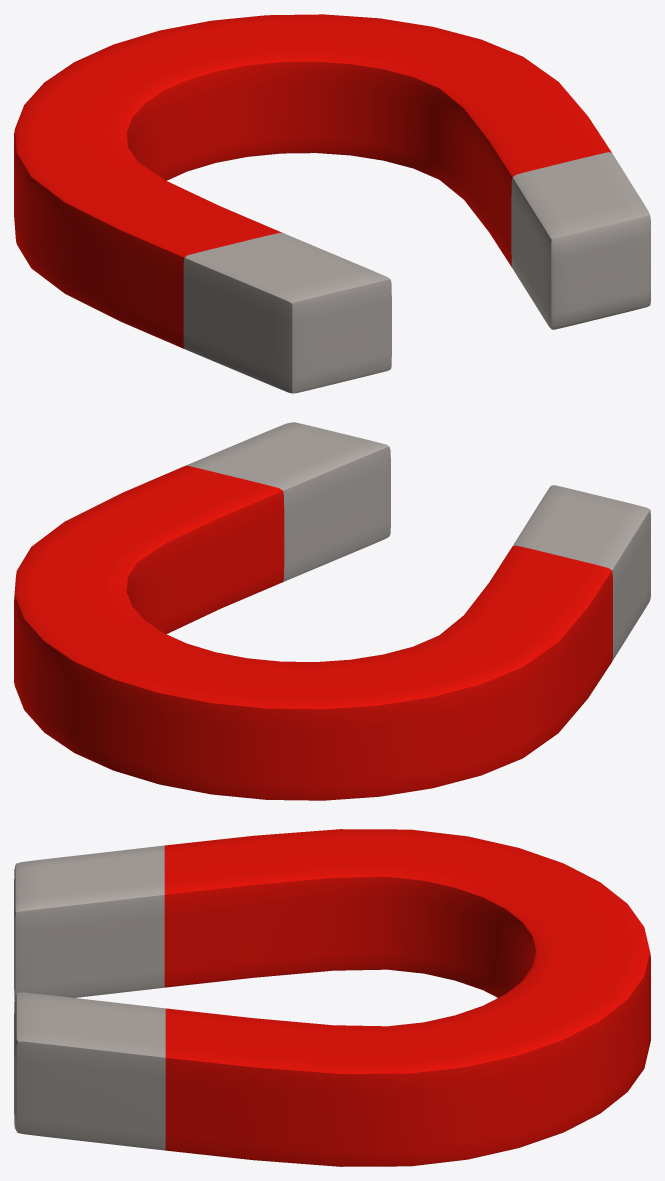
Rendered from GMP_magnet_01.fbx.
3 views of the same model, one above another, from view 1: azimuth 30°, elevation 25°; view 2: azimuth 150°, elevation 25°; view 3: azimuth 270°, elevation 25° (orthographic).
Visible parts, largest first — view 1: Magnet_01; view 2: Magnet_01; view 3: Magnet_01.
Part boxes in pixels (box(x1,y1,x2,y2)): Magnet_01: box(14, 14, 650, 393); Magnet_01: box(14, 422, 650, 800); Magnet_01: box(14, 829, 650, 1166).
Size of the model in its own units: 239 by 43.5 by 262.
